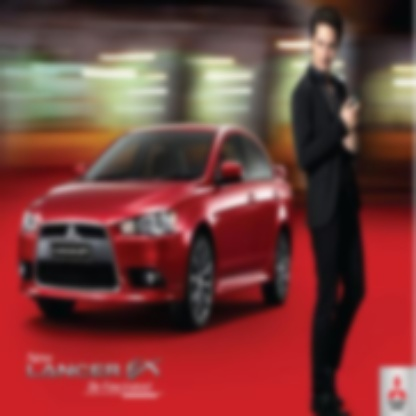Vehicle: (14, 120, 299, 337)
